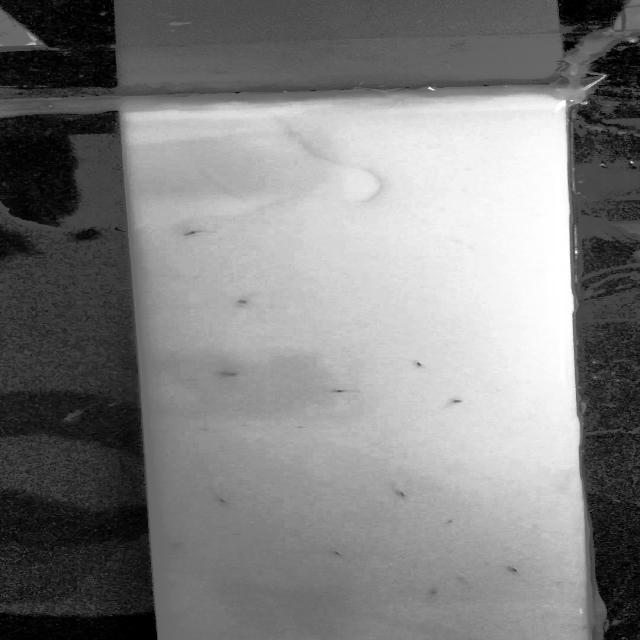shrimp: (176, 228, 218, 240), (210, 368, 244, 379), (393, 488, 415, 503), (328, 386, 364, 394), (331, 548, 351, 562), (407, 358, 430, 370), (162, 542, 187, 552), (215, 495, 233, 508), (233, 299, 256, 309), (447, 396, 466, 406), (443, 518, 464, 526), (430, 586, 447, 594), (508, 566, 520, 575)
